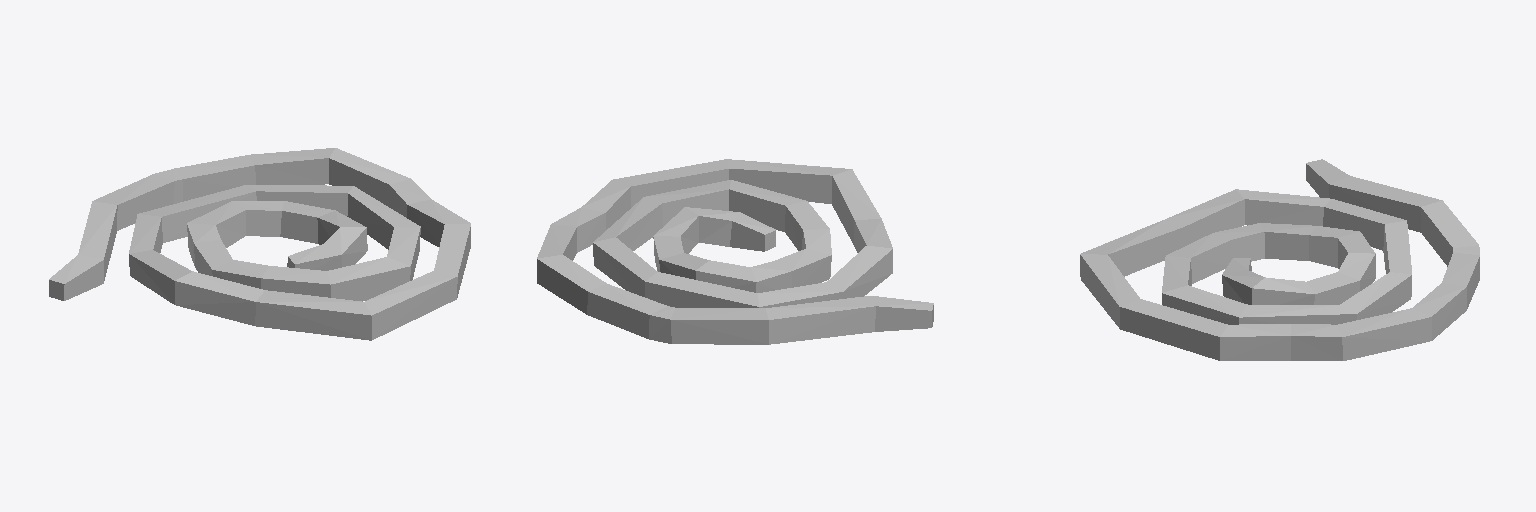
The model's file is Rope_1.obj.
The picture shows the model from 3 angles: view 1: azimuth 30°, elevation 25°; view 2: azimuth 150°, elevation 25°; view 3: azimuth 270°, elevation 25°; orthographic projection.
Parts seen in each view (by area): view 1: Rope_1; view 2: Rope_1; view 3: Rope_1.
Boxes of the visible parts, x1=… form: Rope_1: x1=49, y1=148, x2=470, y2=340; Rope_1: x1=537, y1=159, x2=933, y2=344; Rope_1: x1=1080, y1=159, x2=1479, y2=360.
Size of the model in its own units: 0.6244 by 0.0558 by 0.5822.